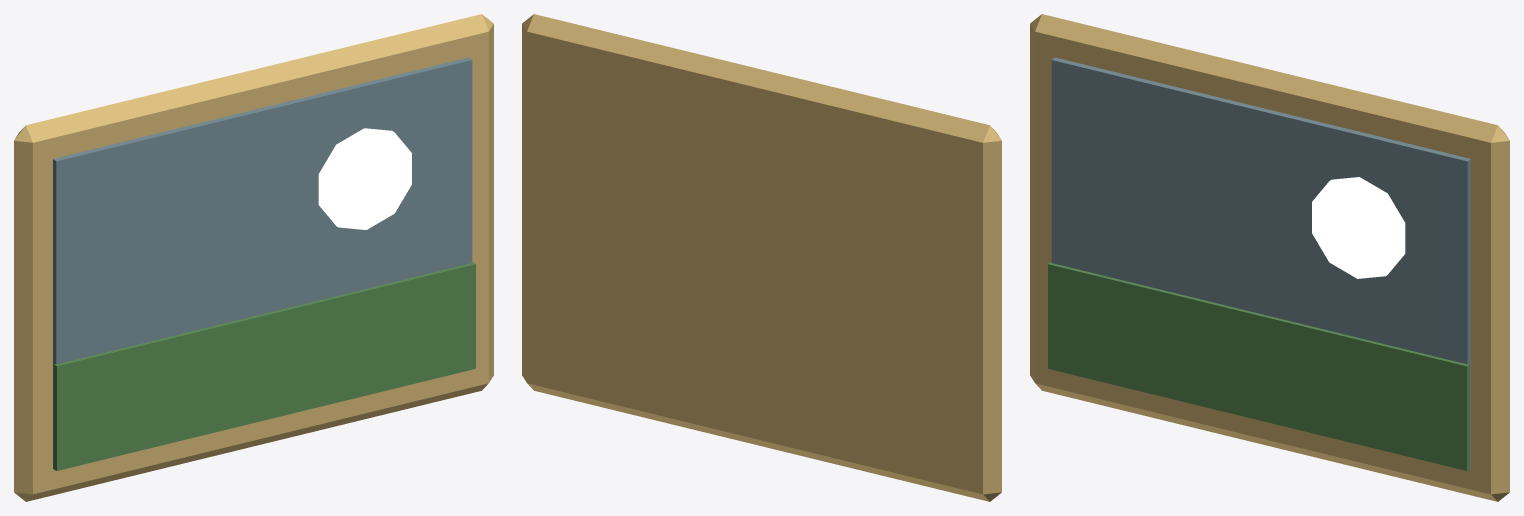
Rendered from hm_painting.glb.
The picture shows the model from 3 angles, left to right: view 1: azimuth 30°, elevation 25°; view 2: azimuth 150°, elevation 25°; view 3: azimuth 330°, elevation 25°; orthographic projection.
Parts seen in each view (by area): view 1: hm_painting; view 2: hm_painting; view 3: hm_painting.
Boxes of the visible parts, box(x1,y1,x2,y2) form: hm_painting: box(14, 14, 493, 501); hm_painting: box(522, 14, 1001, 501); hm_painting: box(1030, 14, 1509, 501).
Size of the model in its own units: 1.2 by 0.9 by 0.084.
